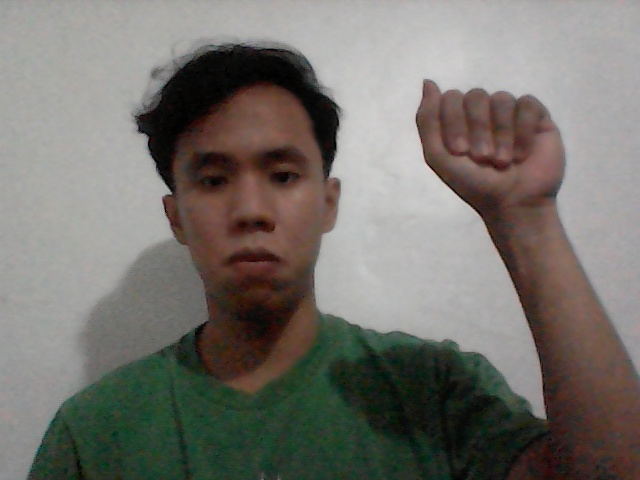A: (385, 62, 587, 248)
